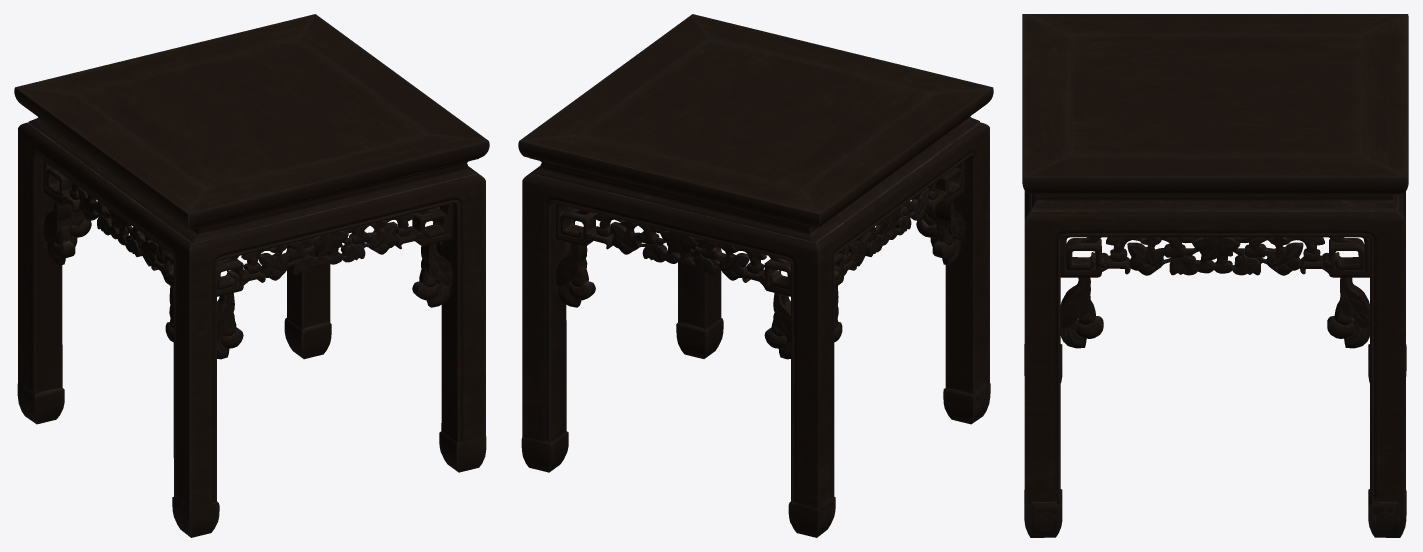
Rendered from SM_Table01F.fbx.
The picture shows the model from 3 angles, left to right: view 1: azimuth 30°, elevation 25°; view 2: azimuth 150°, elevation 25°; view 3: azimuth 270°, elevation 25°; orthographic projection. The views are drawn at different scales.
Parts seen in each view (by area): view 1: SM_Table01F; view 2: SM_Table01F; view 3: SM_Table01F.
Part boxes in pixels (left/top/right/bottom): SM_Table01F: left=14, top=14, right=489, bottom=537; SM_Table01F: left=518, top=14, right=993, bottom=537; SM_Table01F: left=1022, top=14, right=1408, bottom=537.
Size of the model in its own units: 50.06 by 49.97 by 52.
Materials: 1 (1 with a texture image).
